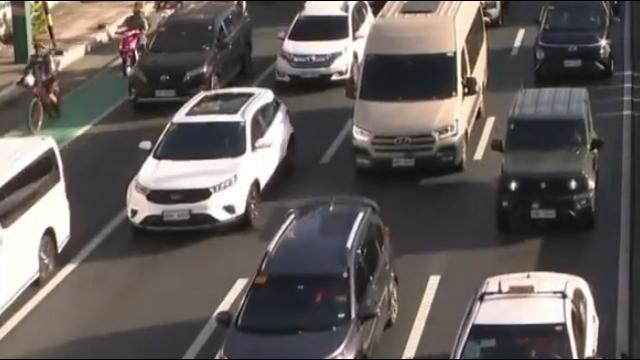car: (212, 198, 401, 360), (126, 87, 296, 237), (491, 89, 607, 235), (446, 269, 601, 360), (125, 5, 253, 110), (273, 0, 376, 88), (531, 0, 616, 89)
motorcycle: (116, 2, 147, 80)
van: (344, 0, 488, 175)
